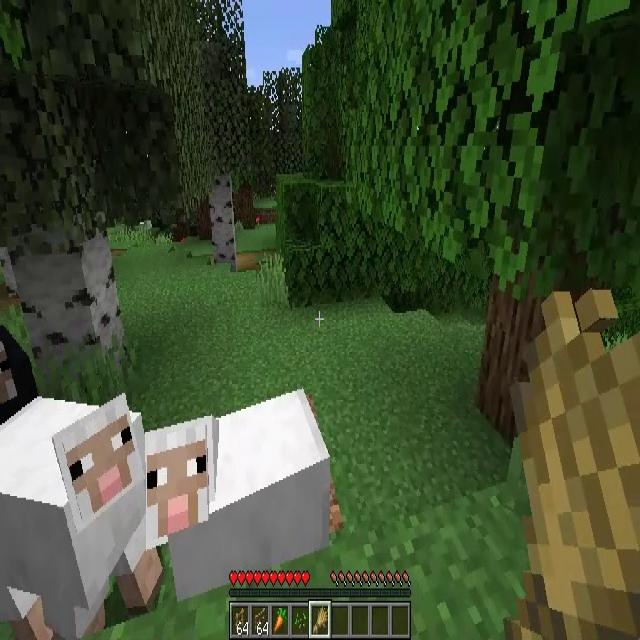sheep: (146, 388, 331, 606), (2, 396, 159, 640)
